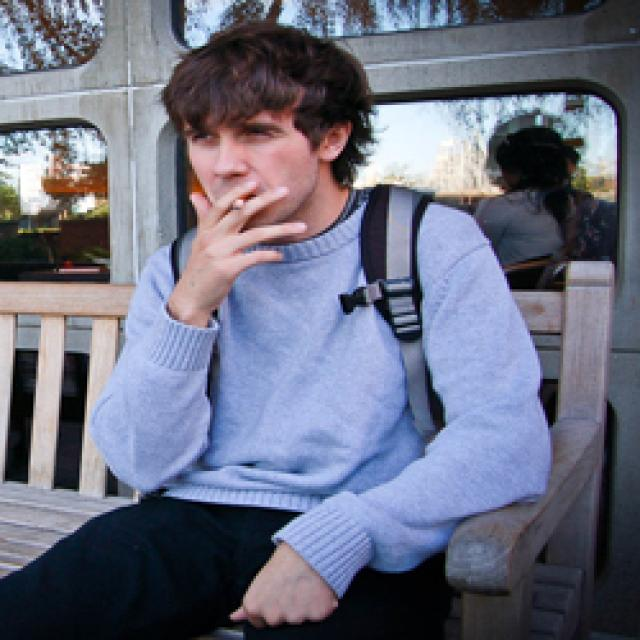Smooking: (221, 195, 252, 219)
